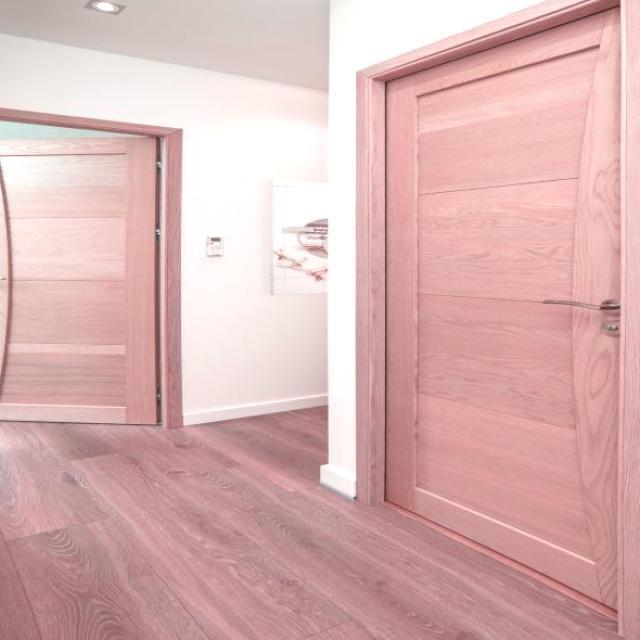door: (360, 0, 631, 623), (0, 132, 160, 425)
